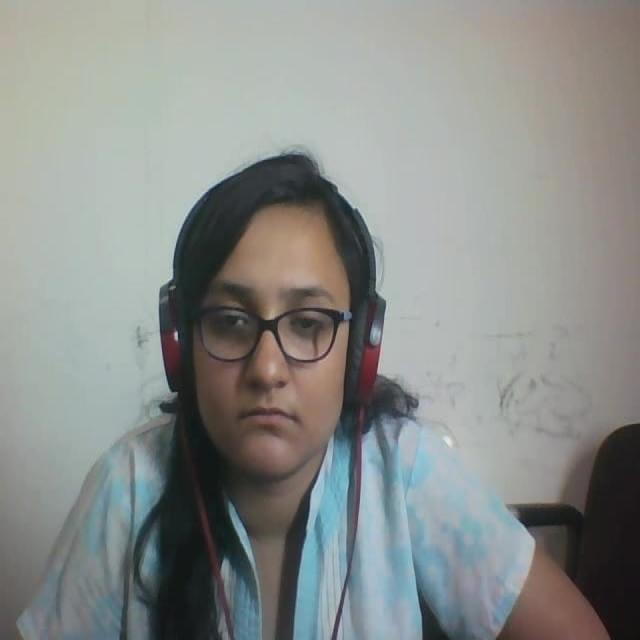Bored: (149, 134, 433, 495)
